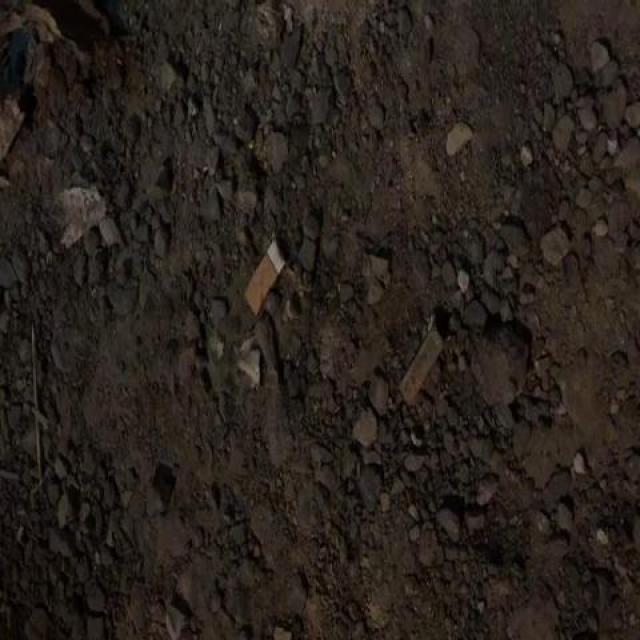non-organic waste: (232, 235, 292, 325)
